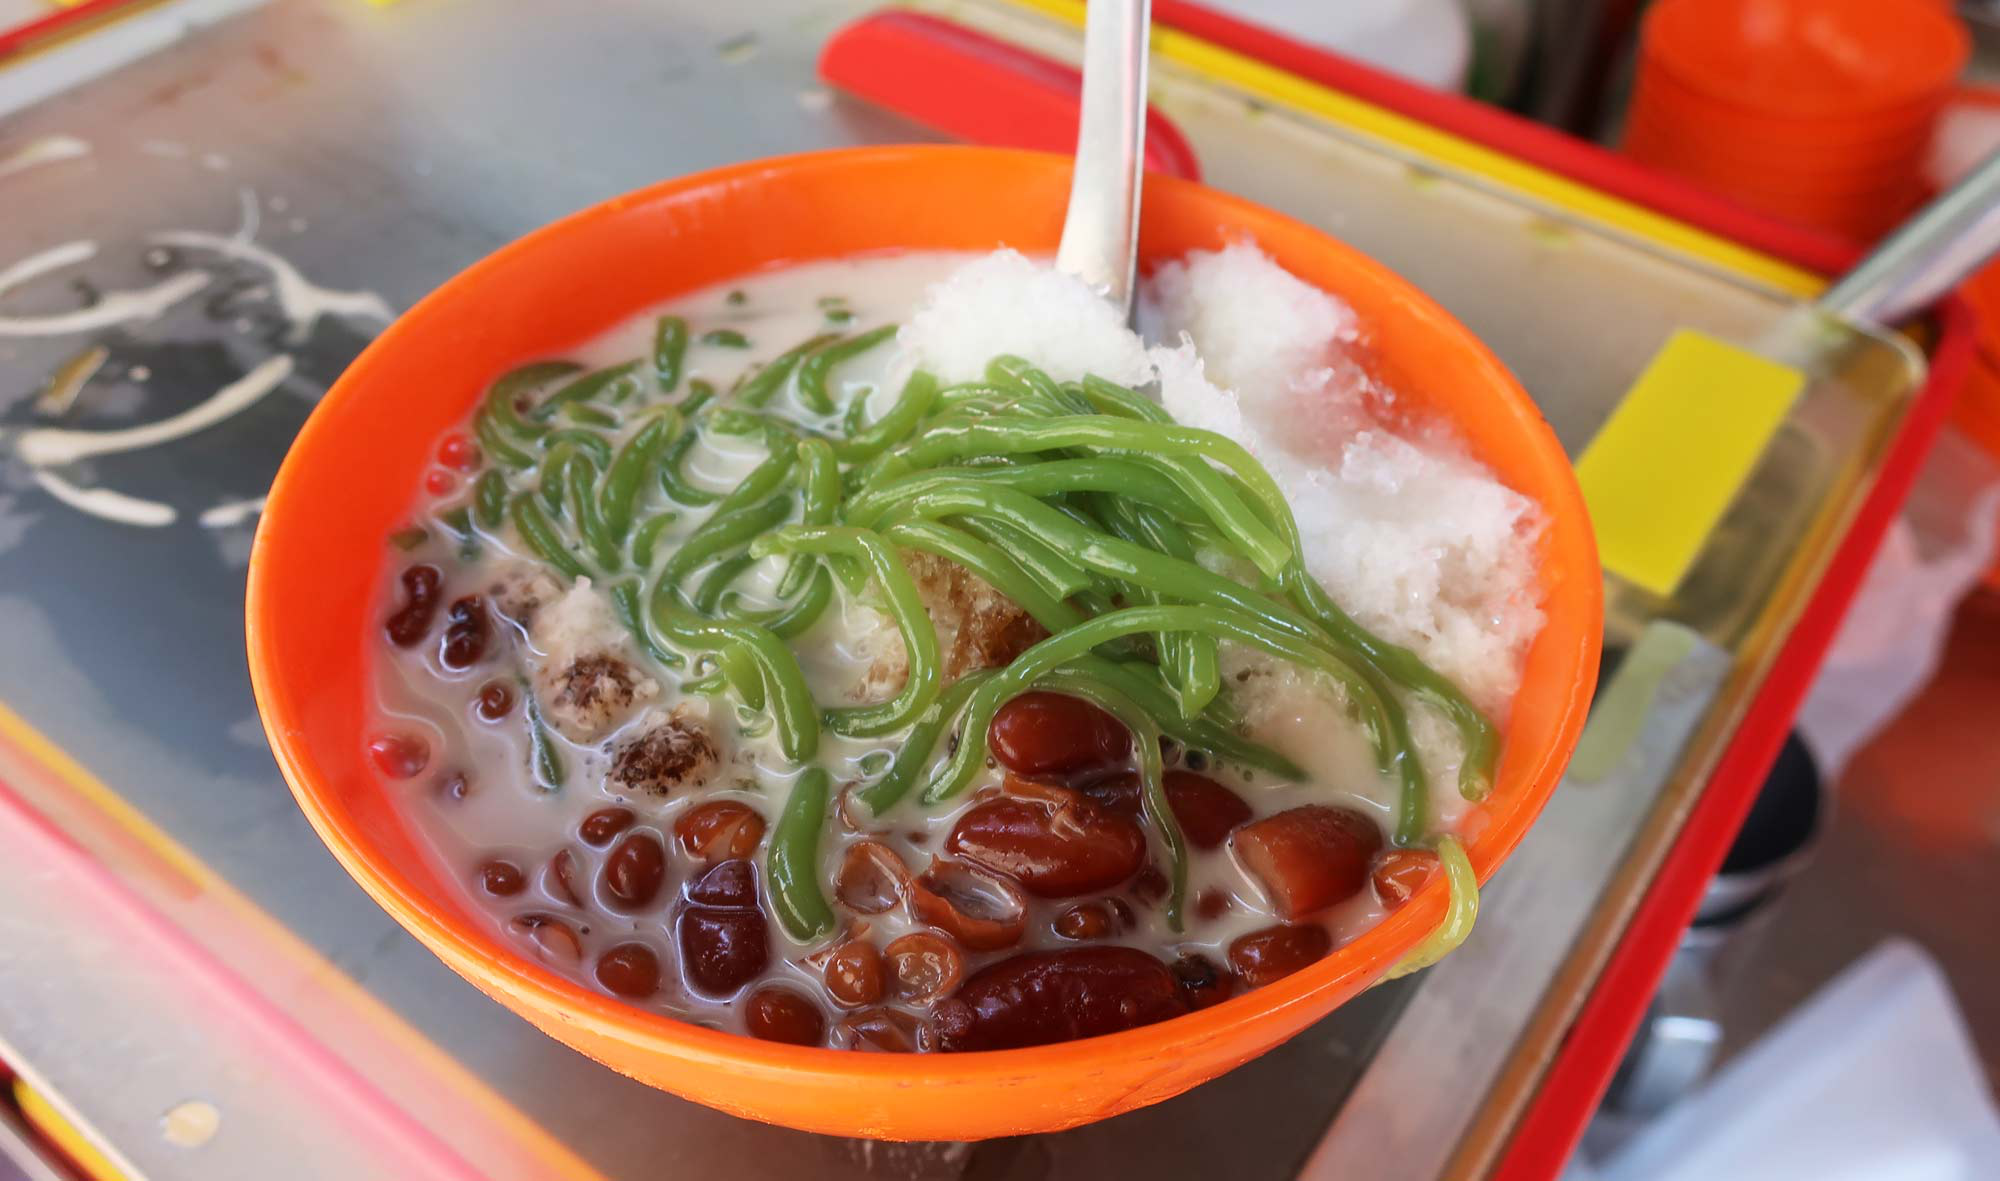Chendol: (343, 164, 1564, 1024)
